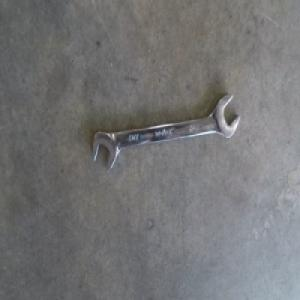Wrench: (92, 91, 240, 172)
